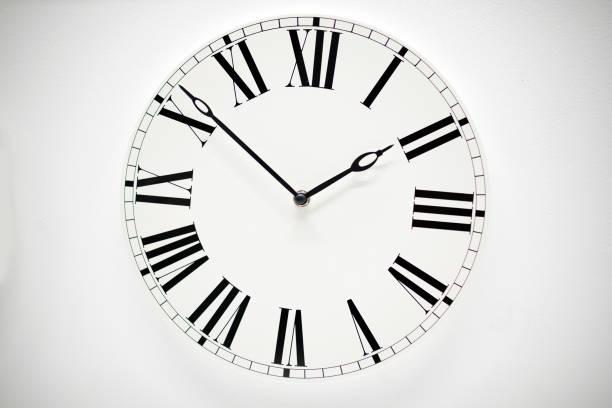clock: (121, 3, 496, 387)
